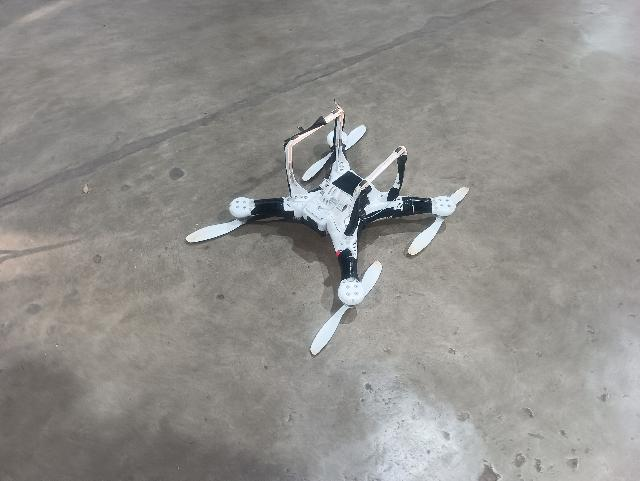drone: (172, 89, 493, 354)
